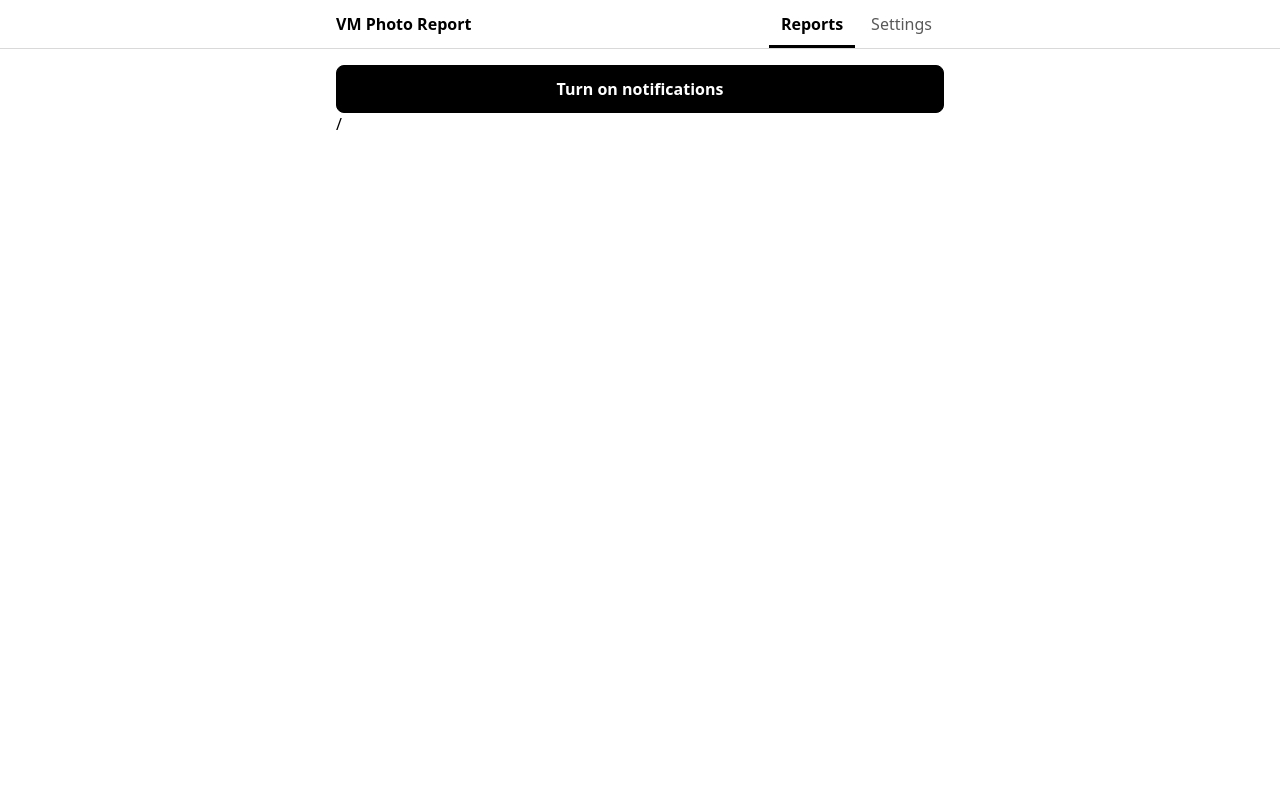
Scenario: Layout banner › unsupported (e.g. the token could not be saved): generic error, the button stays for another try
Click the button "Turn on notifications": (640, 89) [336, 65, 944, 113]
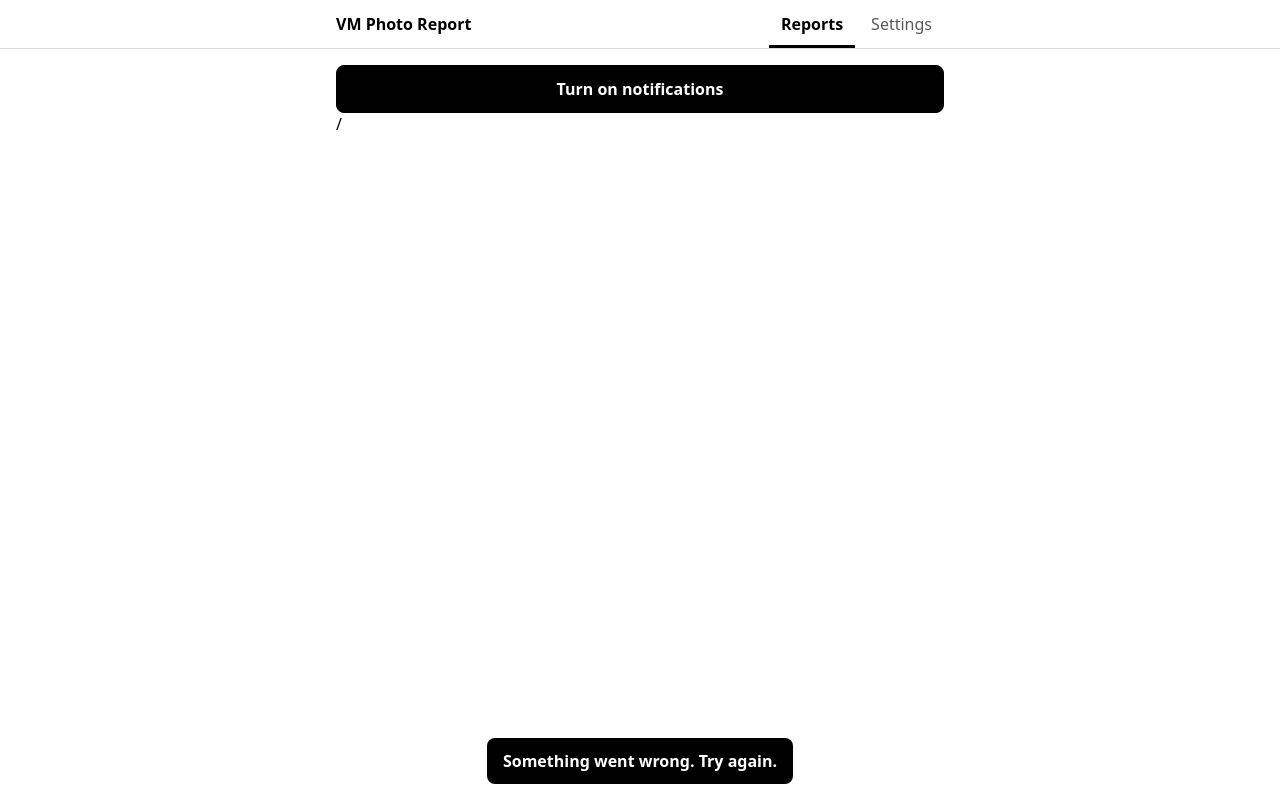
Result: the text "Something went wrong. Try again." is shown at [503, 750, 777, 772]
